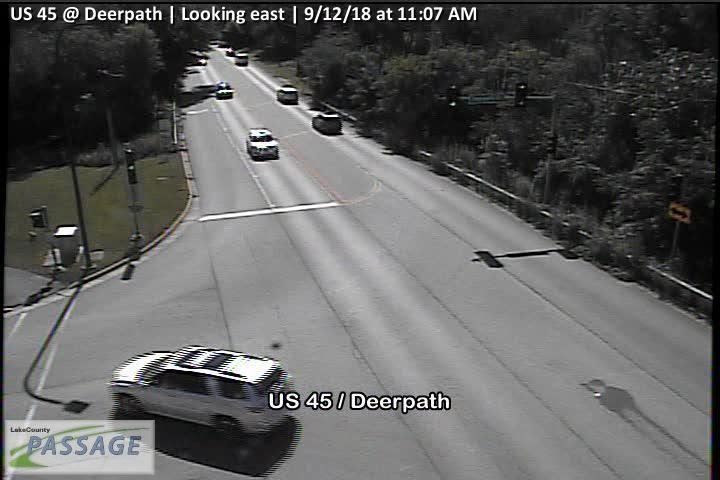SUV: (107, 344, 293, 443)
Sedan: (245, 129, 279, 159), (311, 109, 343, 134), (277, 83, 299, 102), (215, 81, 235, 99)
